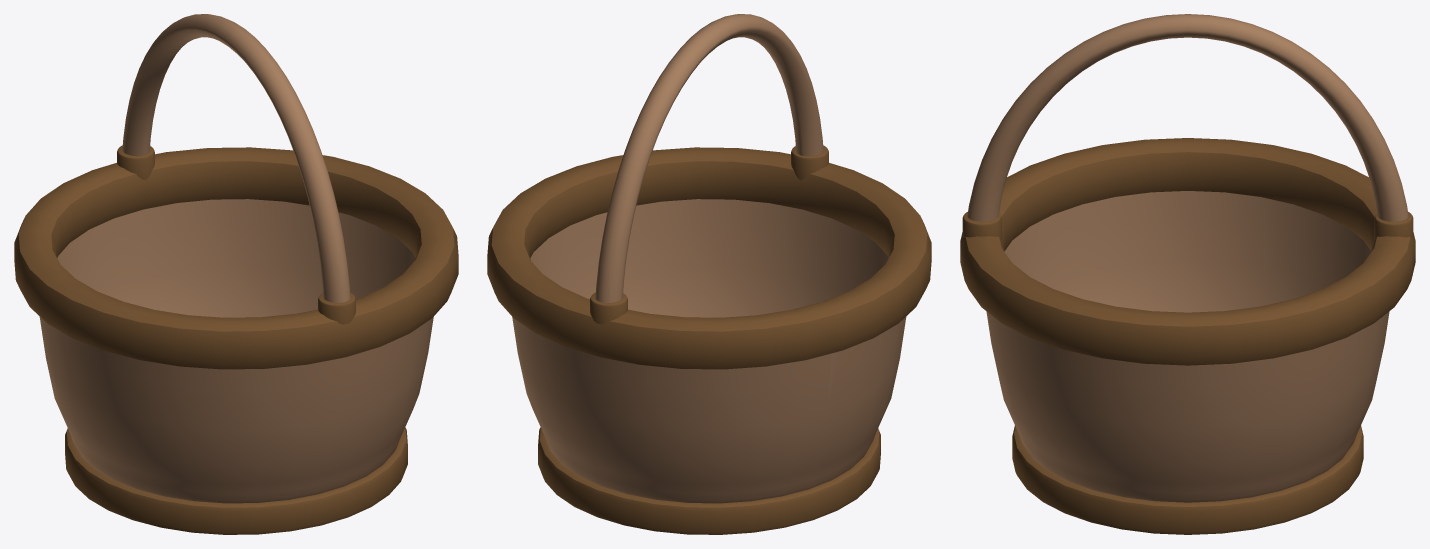
The model's file is koszyk.fbx.
The picture shows the model from 3 angles, left to right: view 1: azimuth 30°, elevation 25°; view 2: azimuth 150°, elevation 25°; view 3: azimuth 270°, elevation 25°; orthographic projection. The views are drawn at different scales.
Parts seen in each view (by area): view 1: Cylinder.001; view 2: Cylinder.001; view 3: Cylinder.001.
Boxes of the visible parts, x1=… form: Cylinder.001: x1=14, y1=14, x2=458, y2=534; Cylinder.001: x1=487, y1=14, x2=931, y2=534; Cylinder.001: x1=960, y1=14, x2=1415, y2=534.
Size of the model in its own units: 200 by 200 by 217.
